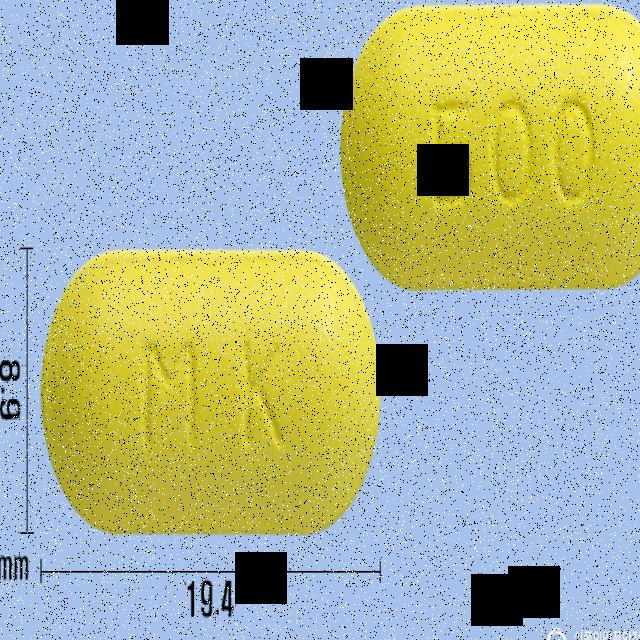Craycin: (41, 247, 382, 534), (341, 5, 640, 286)
